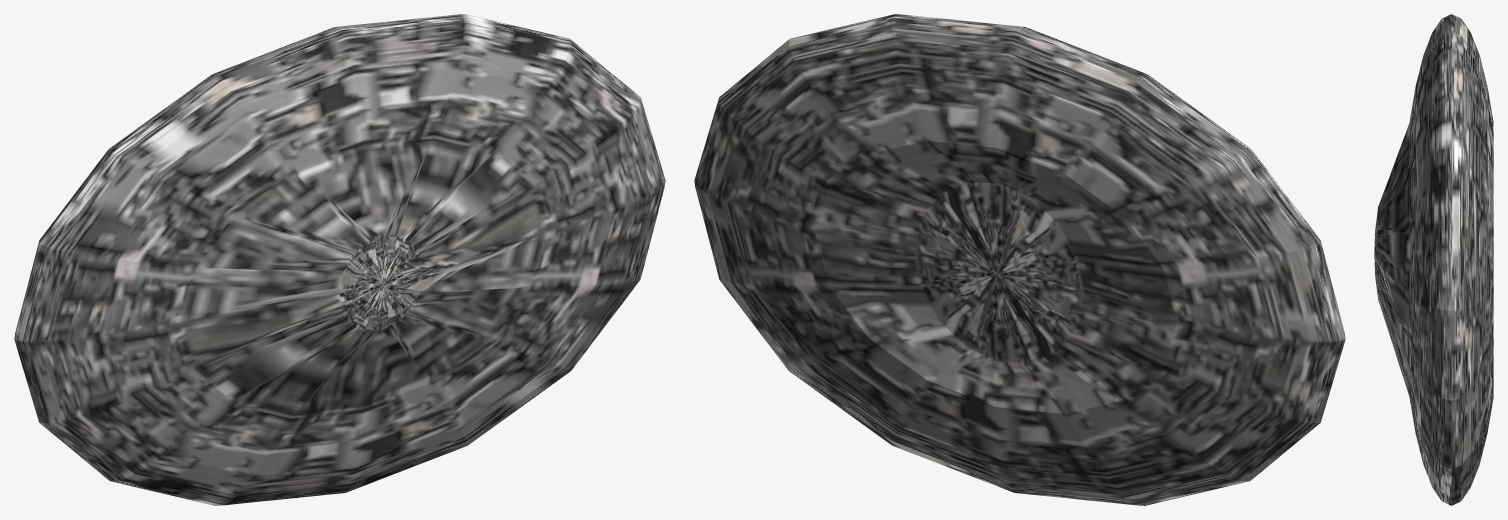
Rendered from ufo_wtf.obj.
The picture shows the model from 3 angles, left to right: view 1: azimuth 30°, elevation 25°; view 2: azimuth 150°, elevation 25°; view 3: azimuth 270°, elevation 25°; orthographic projection. The views are drawn at different scales.
Visible parts, largest first — view 1: group1; view 2: group1; view 3: group1.
Boxes of the visible parts, bbox=[...] form: group1: bbox=[14, 14, 665, 505]; group1: bbox=[694, 14, 1345, 505]; group1: bbox=[1374, 14, 1493, 505].
Bounding box in the file's own units: 660 × 452 × 118.
